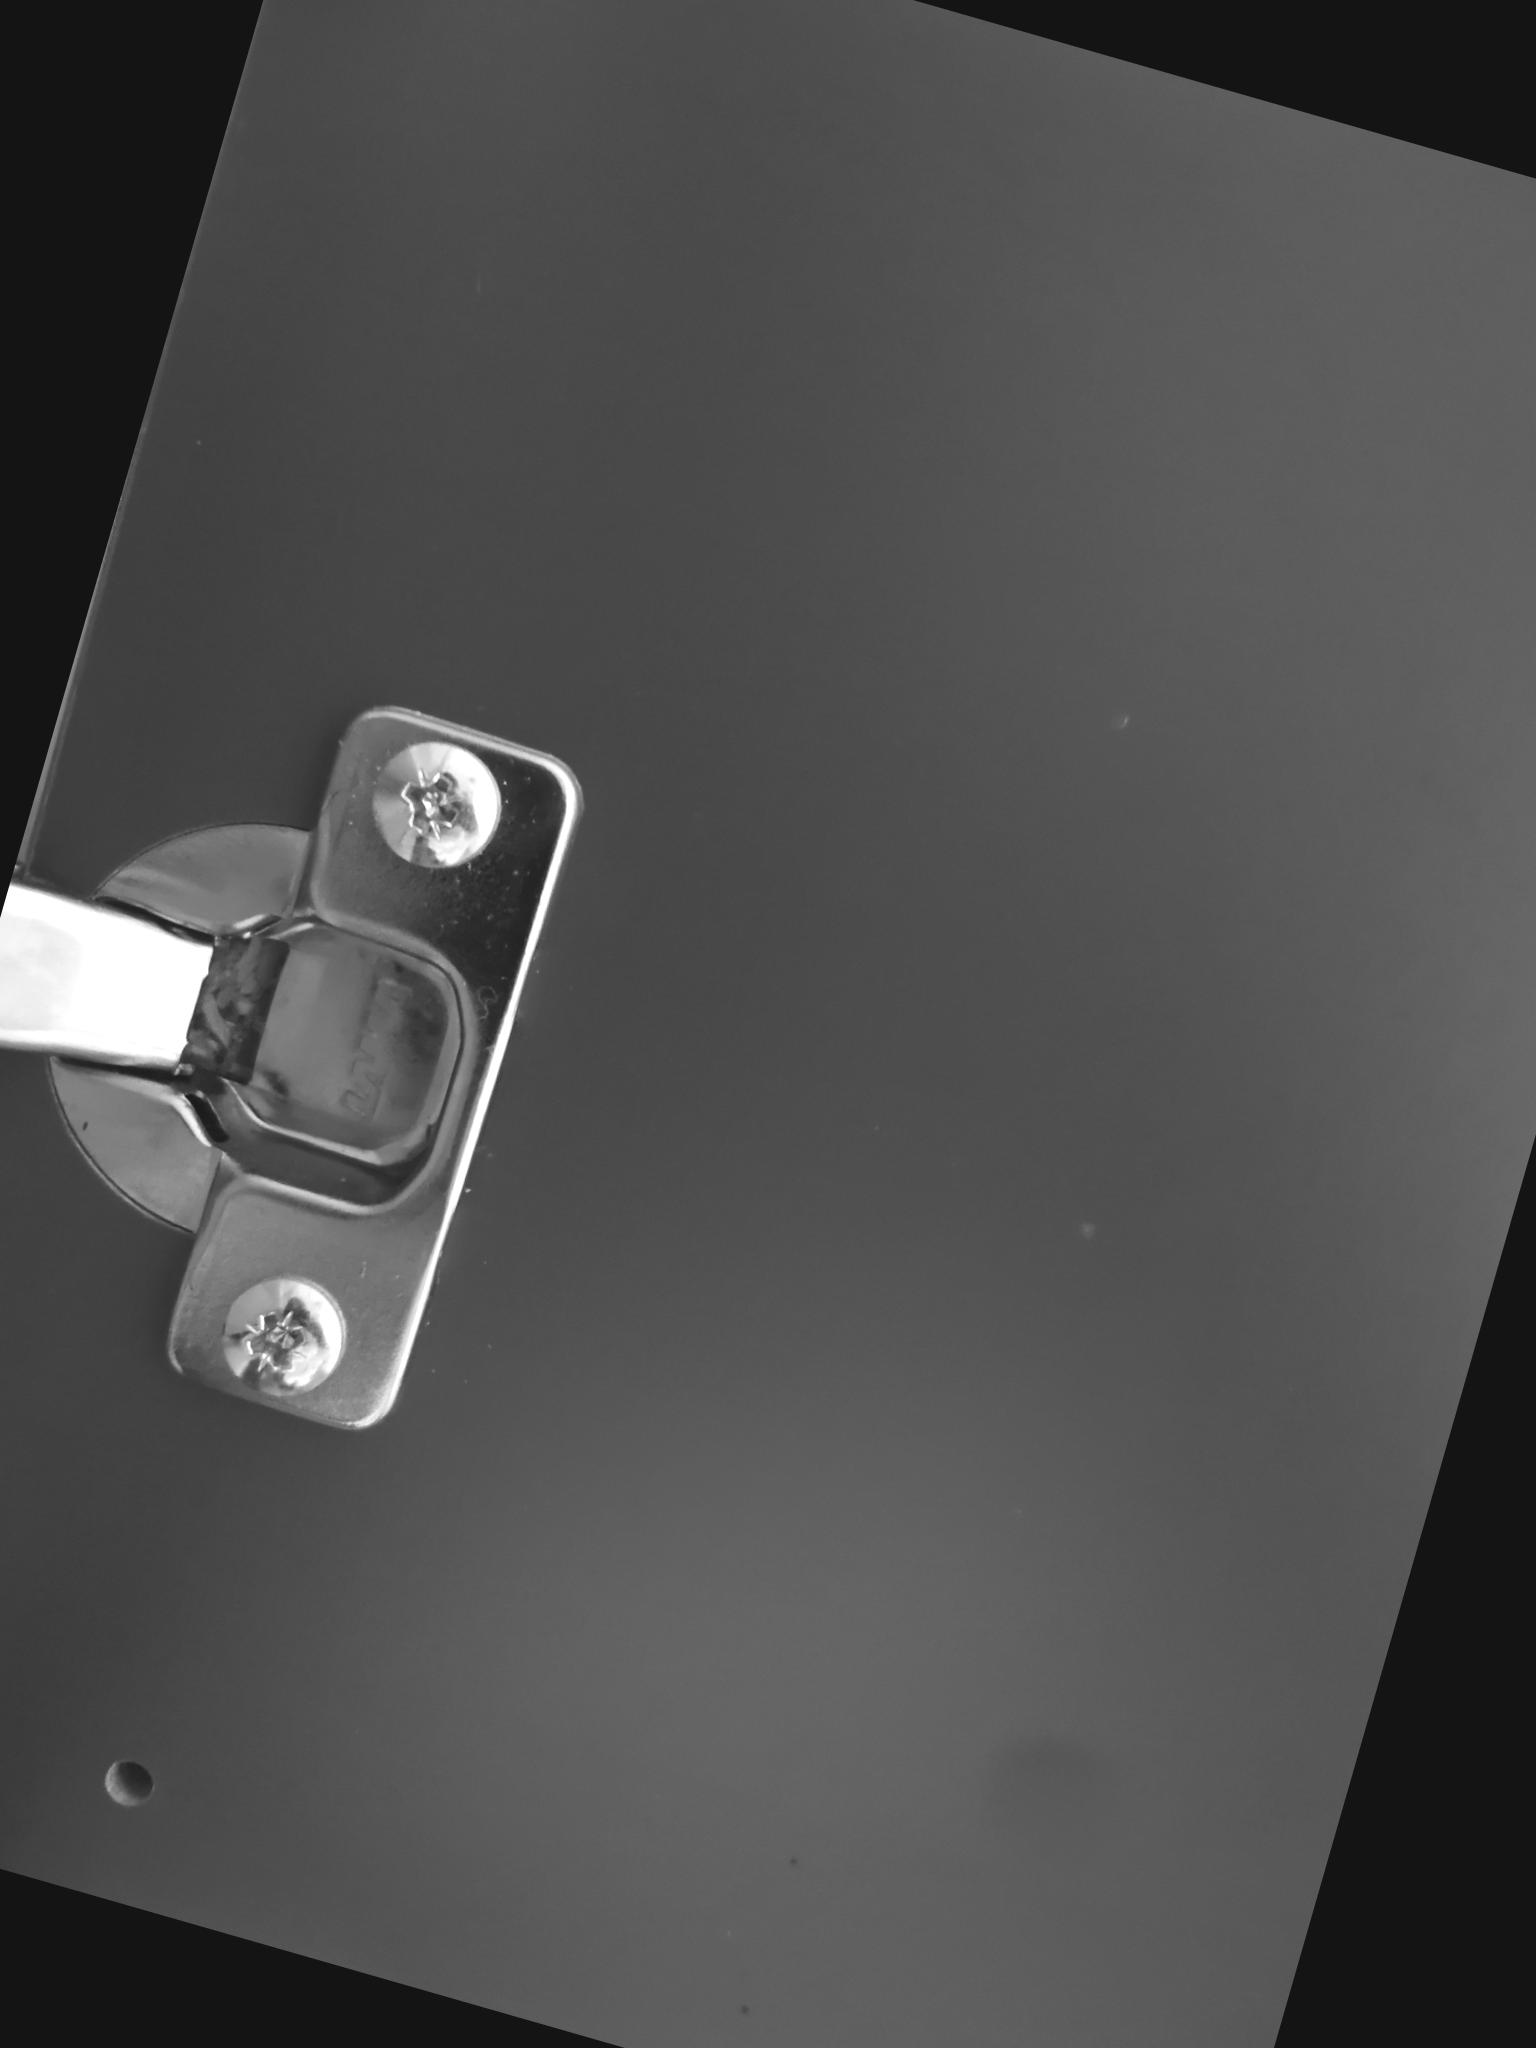philips-PZ: (344, 714, 524, 895), (195, 1258, 369, 1424)
